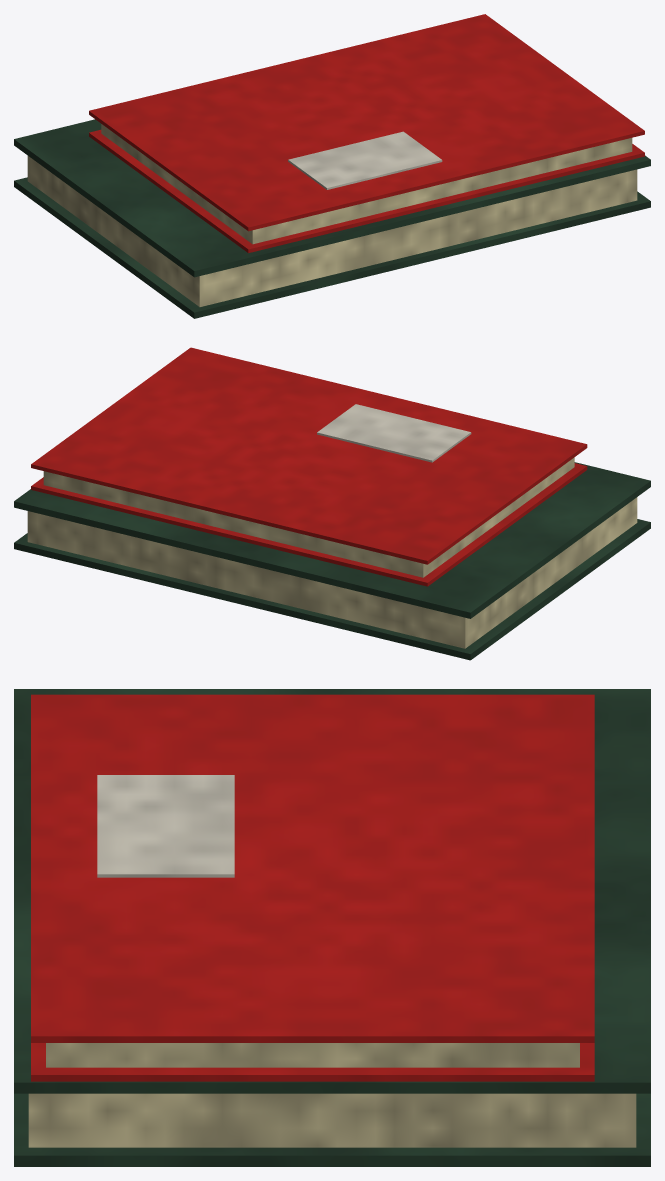
Rendered from school_books.fbx.
3 views of the same model, one above another, from view 1: azimuth 30°, elevation 25°; view 2: azimuth 150°, elevation 25°; view 3: azimuth 270°, elevation 25° (orthographic). The views are drawn at different scales.
Parts seen in each view (by area): view 1: school_books; view 2: school_books; view 3: school_books.
Boxes of the visible parts, x1,y1,x2,y2 form: school_books: (14,14,650,318); school_books: (14,347,650,660); school_books: (14,689,650,1166).
Size of the model in its own units: 19 by 3 by 13.
